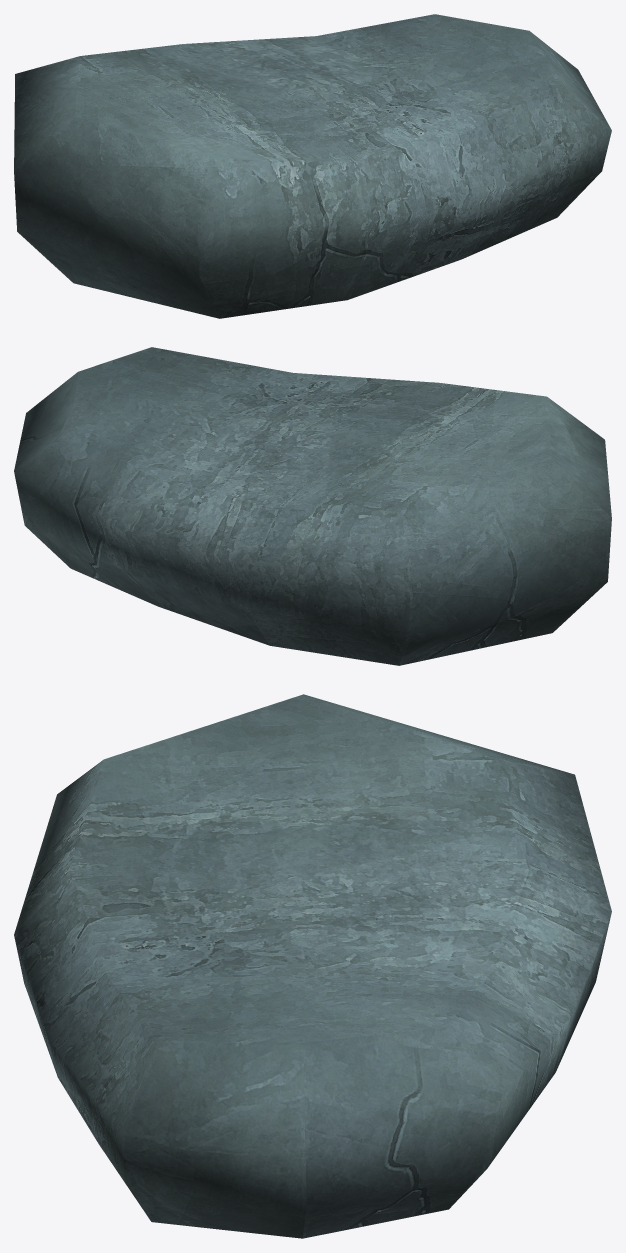
The model's file is Rock_6.fbx.
3 views of the same model, one above another, from view 1: azimuth 30°, elevation 25°; view 2: azimuth 150°, elevation 25°; view 3: azimuth 270°, elevation 25° (orthographic). The views are drawn at different scales.
Visible parts, largest first — view 1: pPlane3; view 2: pPlane3; view 3: pPlane3.
Part boxes in pixels (x1,y1,x2,y2): pPlane3: [14, 14, 611, 318]; pPlane3: [14, 347, 611, 665]; pPlane3: [14, 694, 611, 1238].
Bounding box in the file's own units: 7.16 × 2.02 × 4.69.
